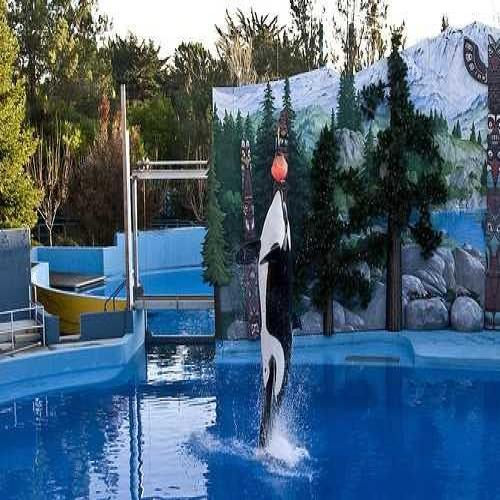killer_whale-endangered: (246, 184, 308, 456)
